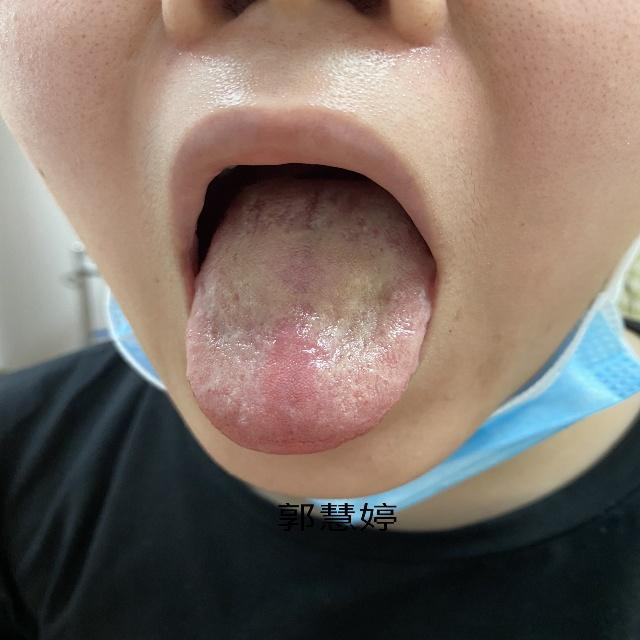baitaishe: (183, 197, 434, 454)
